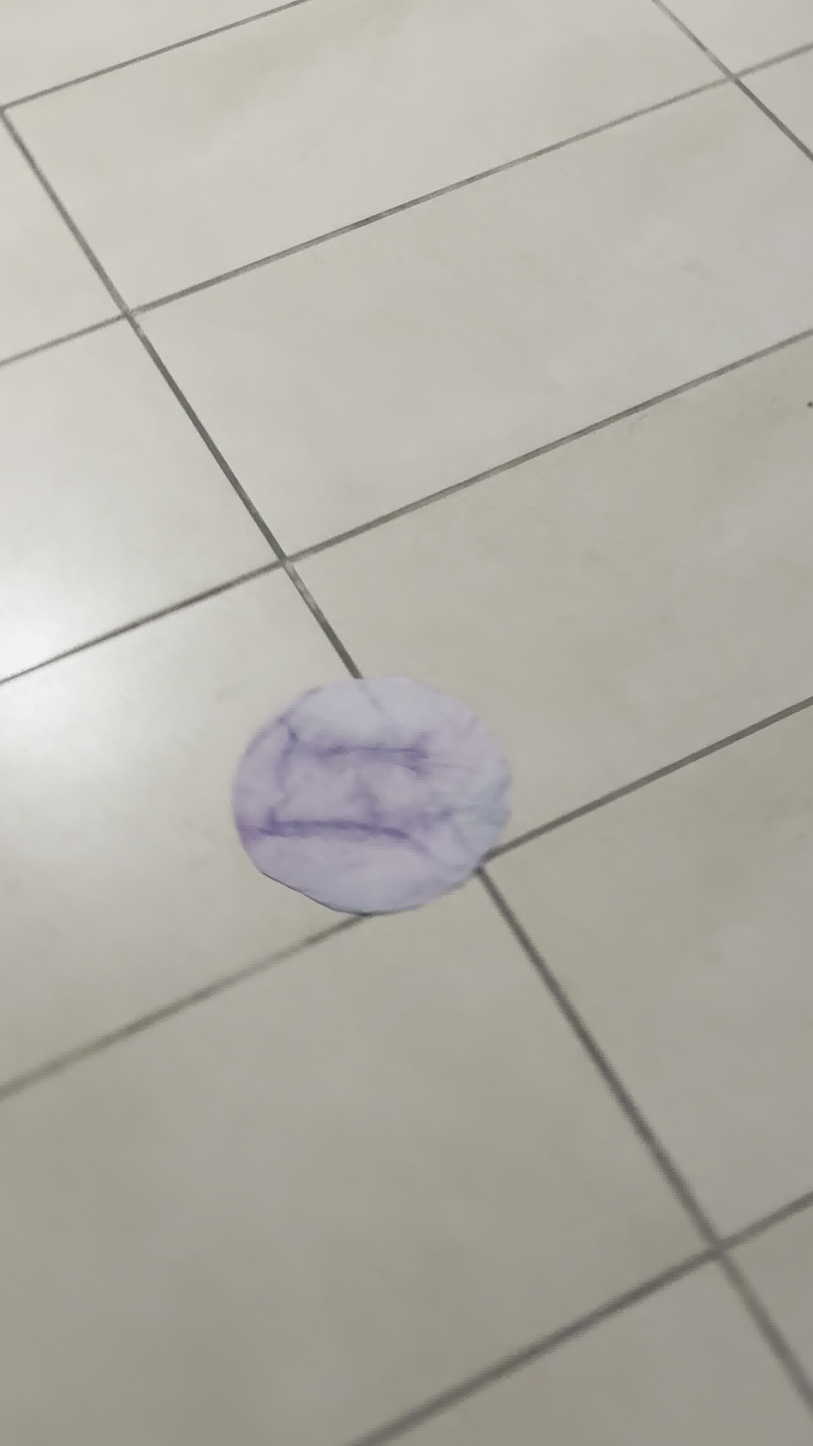Target: (231, 683, 516, 914)
